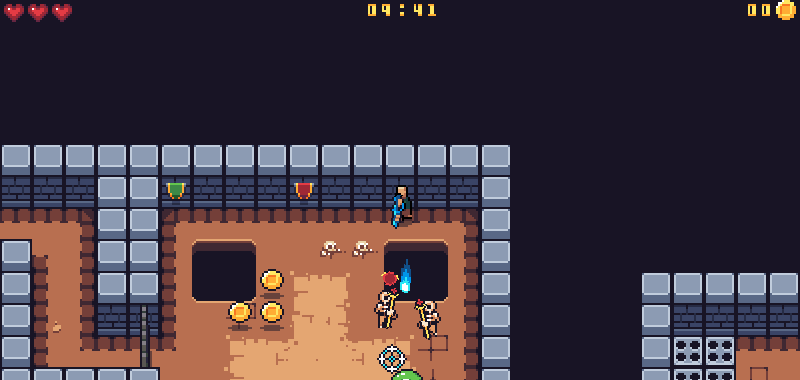enemy_skeleton: (412, 293, 440, 339), (376, 286, 398, 330)
enemy_skeleton_shoot: (382, 269, 398, 285)
gold: (226, 299, 253, 324), (258, 267, 283, 293), (260, 299, 284, 323)
trap_door: (129, 292, 162, 380)
trap_off: (673, 336, 735, 380)
